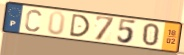0: (46, 11, 67, 37), (142, 23, 162, 47)
5: (116, 19, 139, 45)
7: (94, 15, 116, 42)
C: (23, 8, 43, 33)
D: (68, 13, 92, 38)
